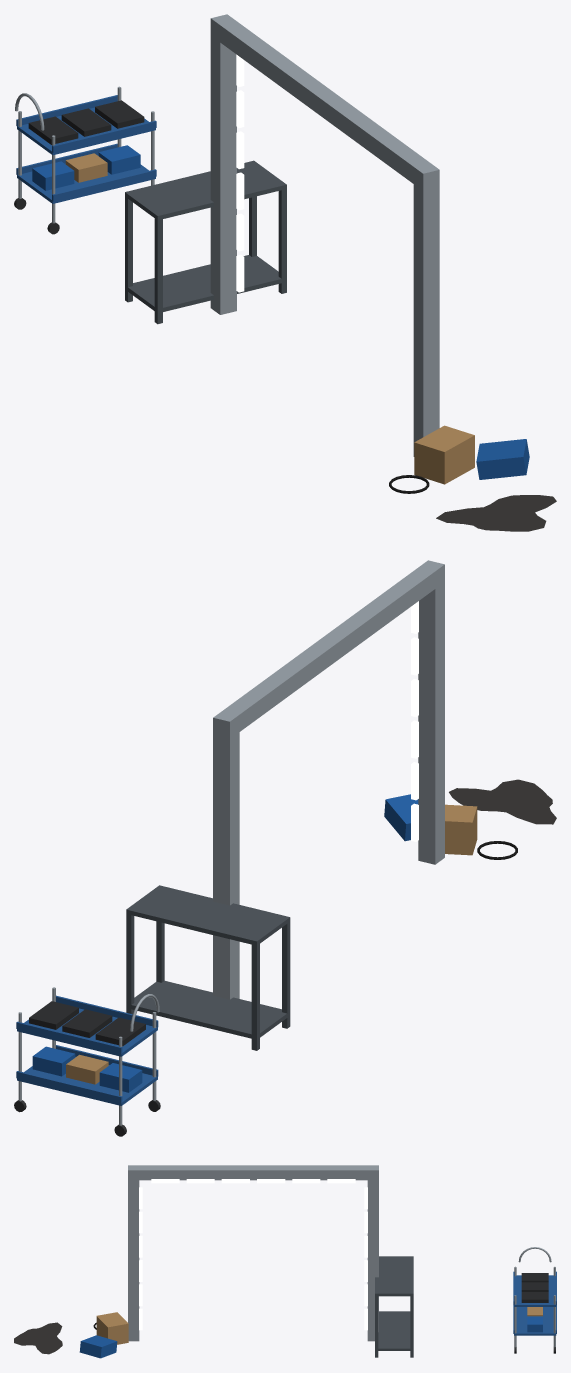
The model's file is fixtures.glb.
The picture shows the model from 3 angles, top to bottom: view 1: azimuth 30°, elevation 25°; view 2: azimuth 150°, elevation 25°; view 3: azimuth 270°, elevation 25°; orthographic projection. The views are drawn at different scales.
Visible parts, largest first — view 1: LightTunnel__Steel, TyreRack__SteelDark, KitCart__CartBlue, Clutter__Cardboard, OilSpill__OilSpill, KitCart__PartBlack, LightTunnel__LEDPanel, Clutter__BinBlue, KitCart__BinBlue, KitCart__Steel, KitCart__Cardboard; view 2: LightTunnel__Steel, TyreRack__SteelDark, KitCart__CartBlue, OilSpill__OilSpill, KitCart__PartBlack, KitCart__BinBlue, LightTunnel__LEDPanel, Clutter__Cardboard, KitCart__Steel, Clutter__BinBlue, KitCart__Cardboard; view 3: LightTunnel__Steel, TyreRack__SteelDark, LightTunnel__LEDPanel, KitCart__CartBlue, OilSpill__OilSpill, KitCart__PartBlack, Clutter__Cardboard, Clutter__BinBlue, KitCart__Steel, KitCart__BinBlue.
Part boxes in pixels (box(x1,y1,x2,y2)): LightTunnel__Steel: box(210, 14, 439, 456); TyreRack__SteelDark: box(125, 160, 286, 324); KitCart__CartBlue: box(16, 95, 156, 203); Clutter__Cardboard: box(414, 425, 474, 484); OilSpill__OilSpill: box(436, 495, 556, 531); KitCart__PartBlack: box(28, 100, 144, 144); LightTunnel__LEDPanel: box(236, 54, 244, 292); Clutter__BinBlue: box(476, 439, 529, 479); KitCart__BinBlue: box(32, 145, 140, 190); KitCart__Steel: box(15, 86, 154, 223); KitCart__Cardboard: box(65, 153, 107, 182); LightTunnel__Steel: box(213, 560, 444, 999); TyreRack__SteelDark: box(126, 885, 290, 1050); KitCart__CartBlue: box(16, 995, 158, 1105); OilSpill__OilSpill: box(449, 779, 556, 824); KitCart__PartBlack: box(29, 1001, 145, 1046); KitCart__BinBlue: box(32, 1046, 142, 1092); LightTunnel__LEDPanel: box(411, 601, 418, 841); Clutter__Cardboard: box(445, 804, 477, 855); KitCart__Steel: box(18, 987, 159, 1125); Clutter__BinBlue: box(384, 794, 418, 841); KitCart__Cardboard: box(66, 1054, 108, 1084); LightTunnel__Steel: box(128, 1165, 378, 1341); TyreRack__SteelDark: box(375, 1256, 413, 1357); LightTunnel__LEDPanel: box(139, 1179, 367, 1330); KitCart__CartBlue: box(513, 1271, 556, 1335); OilSpill__OilSpill: box(14, 1322, 62, 1354); KitCart__PartBlack: box(521, 1273, 548, 1302); Clutter__Cardboard: box(96, 1312, 128, 1344); Clutter__BinBlue: box(79, 1335, 117, 1358); KitCart__Steel: box(514, 1247, 555, 1347); KitCart__BinBlue: box(527, 1316, 542, 1332).
Bounding box in the file's own units: 1.35 × 2.71 × 7.71.
